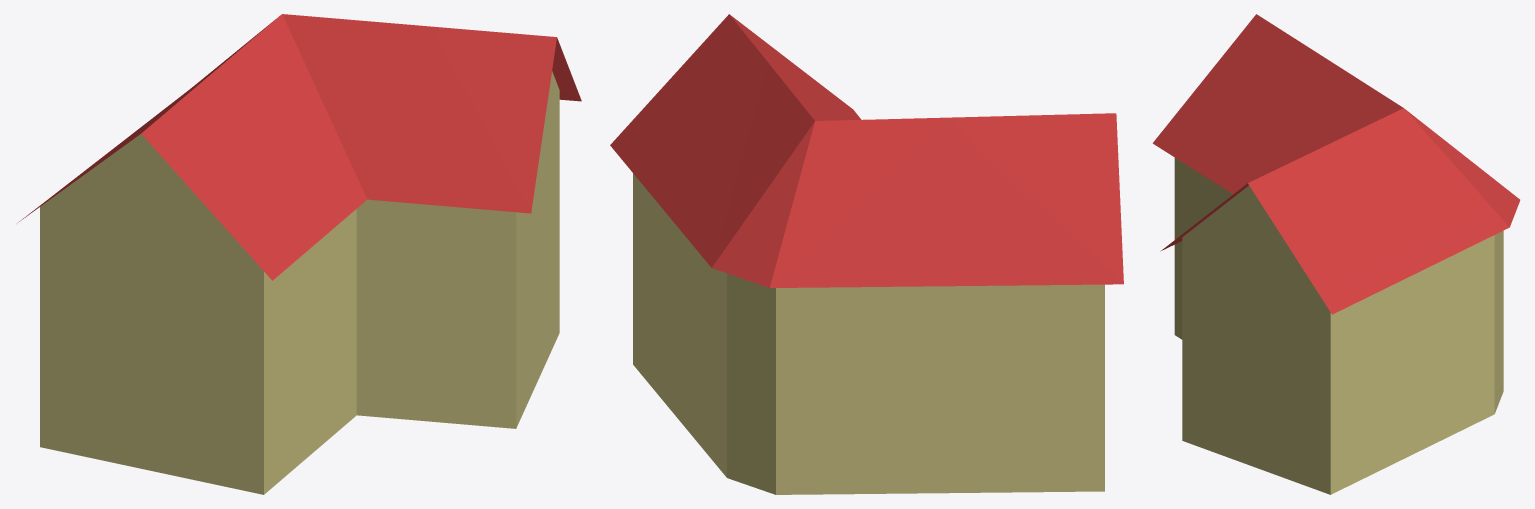
The picture shows the model from 3 angles, left to right: view 1: azimuth 30°, elevation 25°; view 2: azimuth 150°, elevation 25°; view 3: azimuth 270°, elevation 25°; orthographic projection. The views are drawn at different scales.
Parts seen in each view (by area): view 1: group_5, group_3, group_4; view 2: group_5, group_3, group_4; view 3: group_5, group_3, group_4.
Boxes of the visible parts, box(x1,y1,x2,y2) form: group_5: box(40, 71, 559, 494); group_3: box(18, 14, 556, 280); group_4: box(95, 37, 581, 280); group_5: box(633, 173, 1104, 494); group_3: box(610, 14, 1123, 287); group_4: box(636, 14, 1120, 287); group_5: box(1174, 158, 1503, 494); group_3: box(1153, 19, 1520, 314); group_4: box(1153, 14, 1509, 288).
Size of the model in its own units: 25.31 by 17.27 by 15.04.
